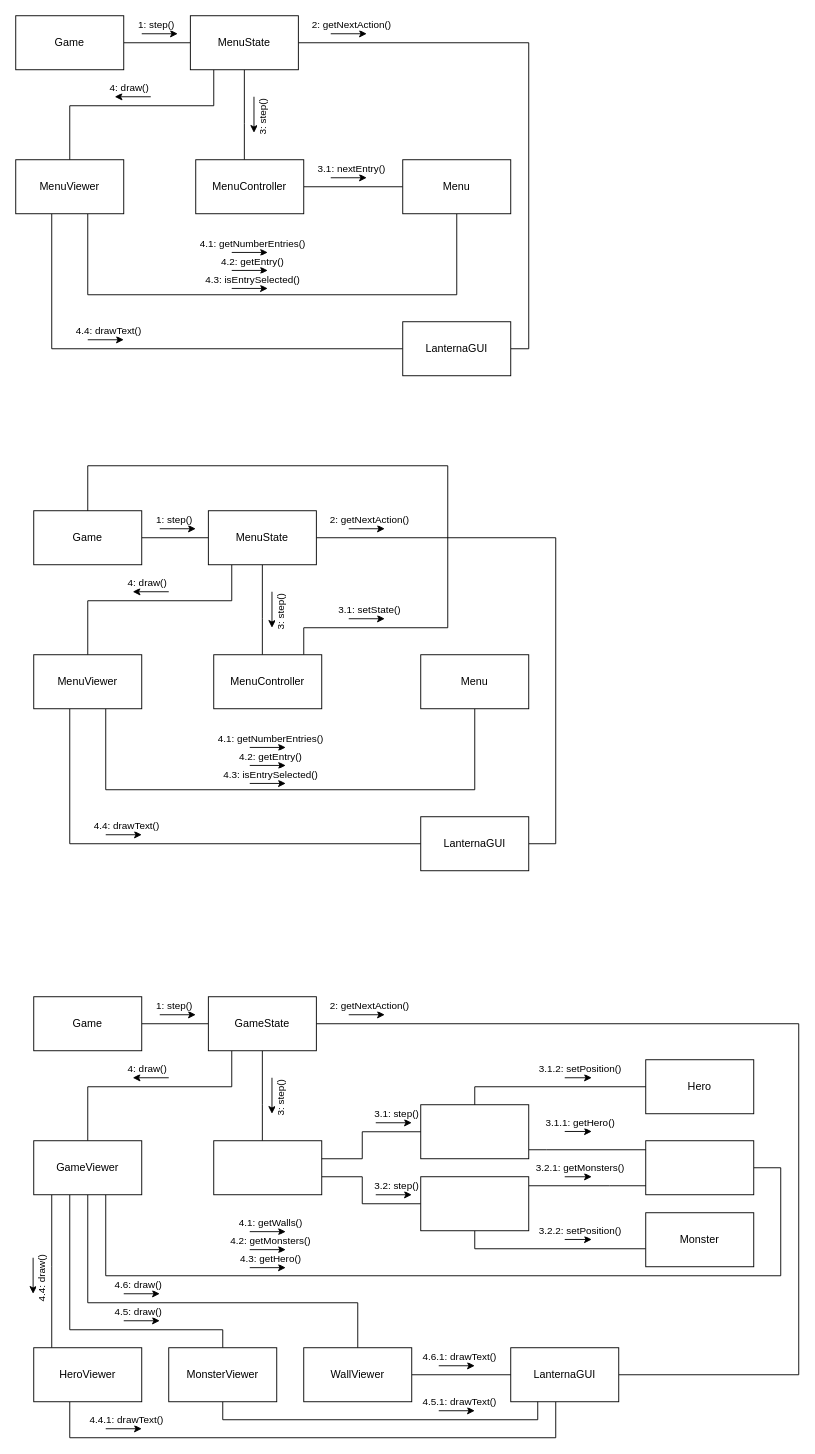
The diagram is 815 pixels wide and 1454 high, and some of its shapes have lost their labels. Each missing label, with the centre of its shape:
"Arena" goes at point 699,1167.
"ArenaController" goes at point 267,1167.
"HeroController" goes at point 474,1131.
"MonsterController" goes at point 474,1203.
